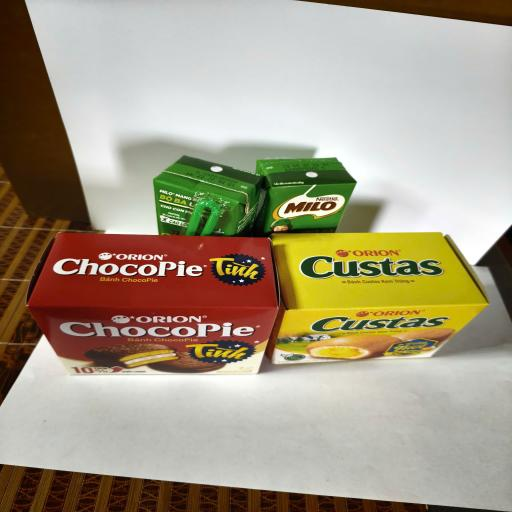chocopie: (26, 232, 280, 375)
custas: (269, 232, 489, 367)
milo: (153, 155, 266, 238), (255, 157, 357, 235)
